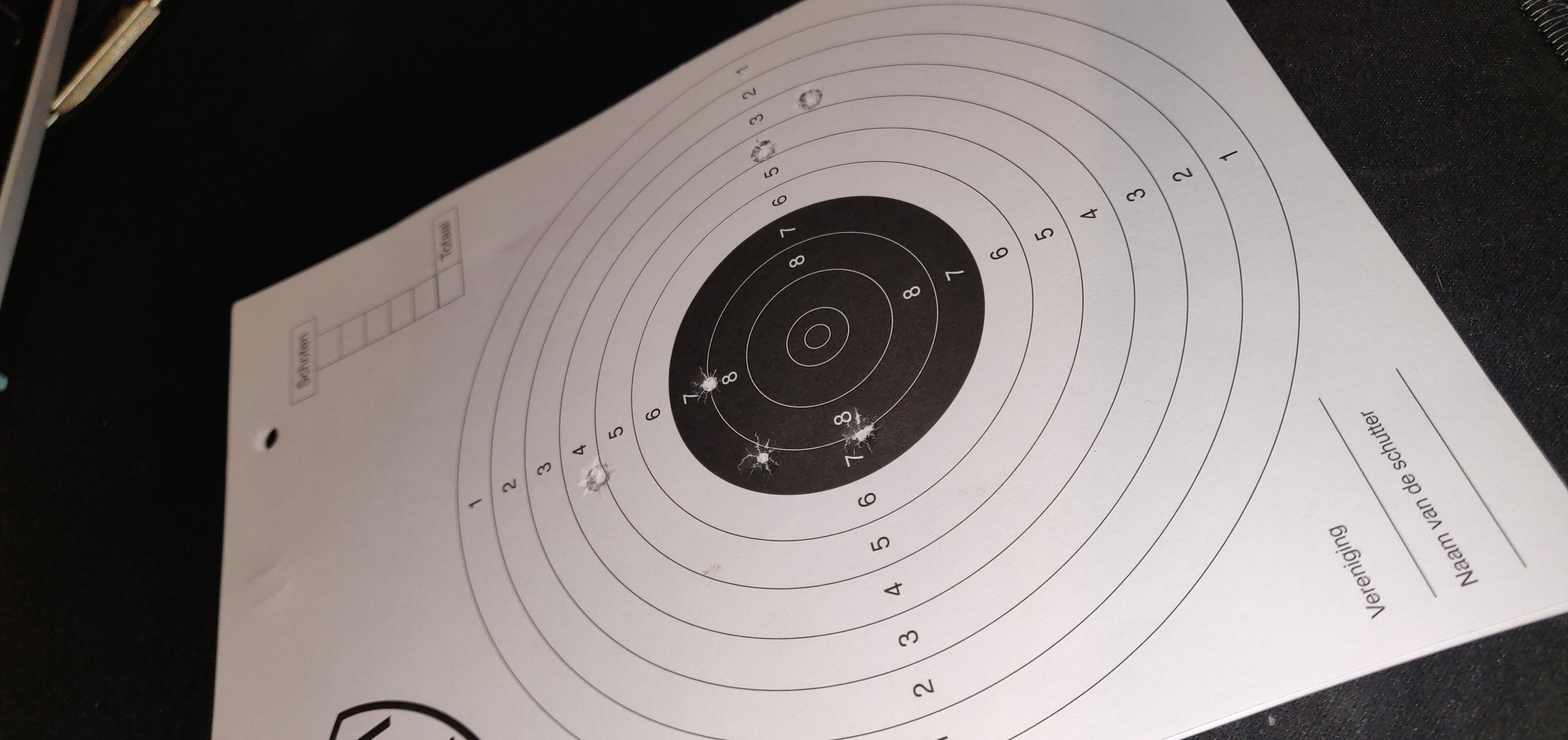hole: (555, 349, 648, 370), (514, 272, 592, 291), (614, 398, 694, 415), (714, 327, 795, 341), (1333, 376, 1387, 388), (1223, 354, 1273, 366)
